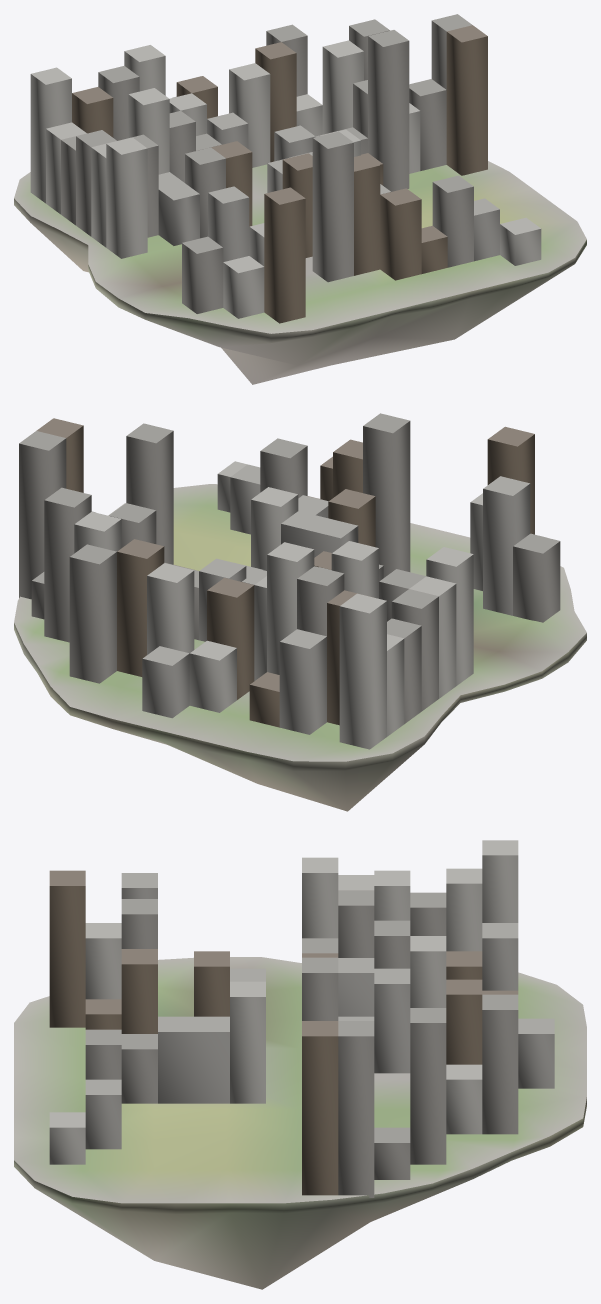
Rendered from SKY-028.lod1.glb.
The picture shows the model from 3 angles, top to bottom: view 1: azimuth 30°, elevation 25°; view 2: azimuth 150°, elevation 25°; view 3: azimuth 270°, elevation 25°; orthographic projection. The views are drawn at different scales.
Parts seen in each view (by area): view 1: warren_hull, deck, rock; view 2: warren_hull, deck, rock; view 3: warren_hull, deck, rock.
Part boxes in pixels (x1,y1,x2,y2): warren_hull: (30,14,541,323); deck: (14,161,586,333); rock: (14,198,586,384); warren_hull: (19,413,560,749); deck: (14,484,586,761); rock: (14,623,586,811); warren_hull: (49,840,554,1197); deck: (14,957,586,1203); rock: (14,1097,586,1289).
Bounding box in the file's own units: 96.97 × 63.44 × 95.34.
